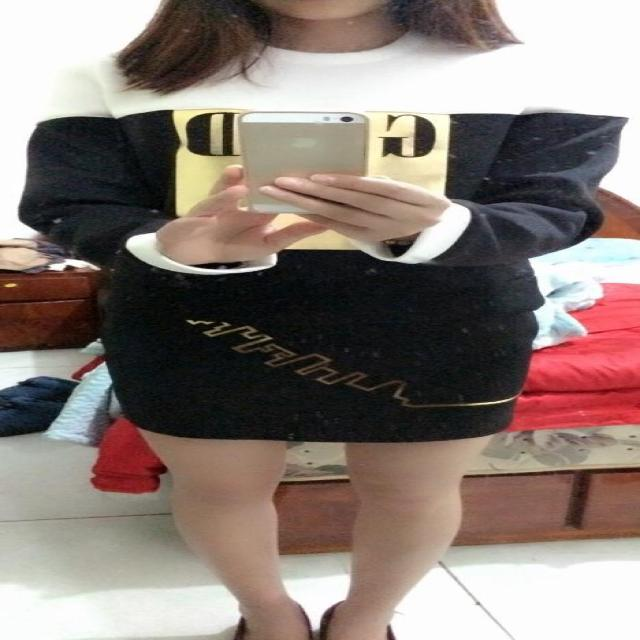long sleeve top: (22, 29, 622, 323)
skirt: (105, 298, 535, 443)
